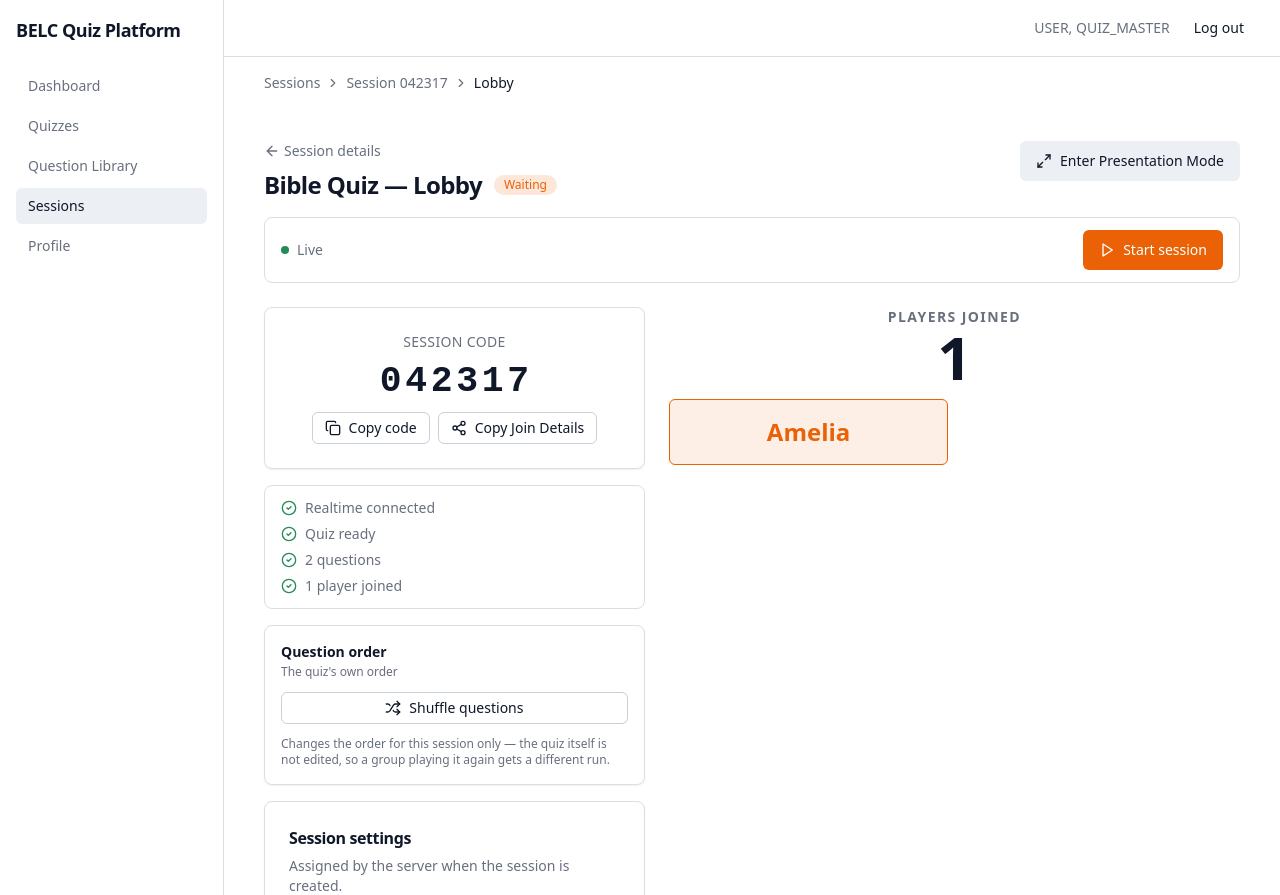
Test: SessionLobbyPage › stays in the lobby and shows the error when the server refuses the start
Expected: the text "Amelia" is shown, [767,415,850,448]
Click the button "Start session".
click(1153, 250)  # box [1083,230,1223,270]
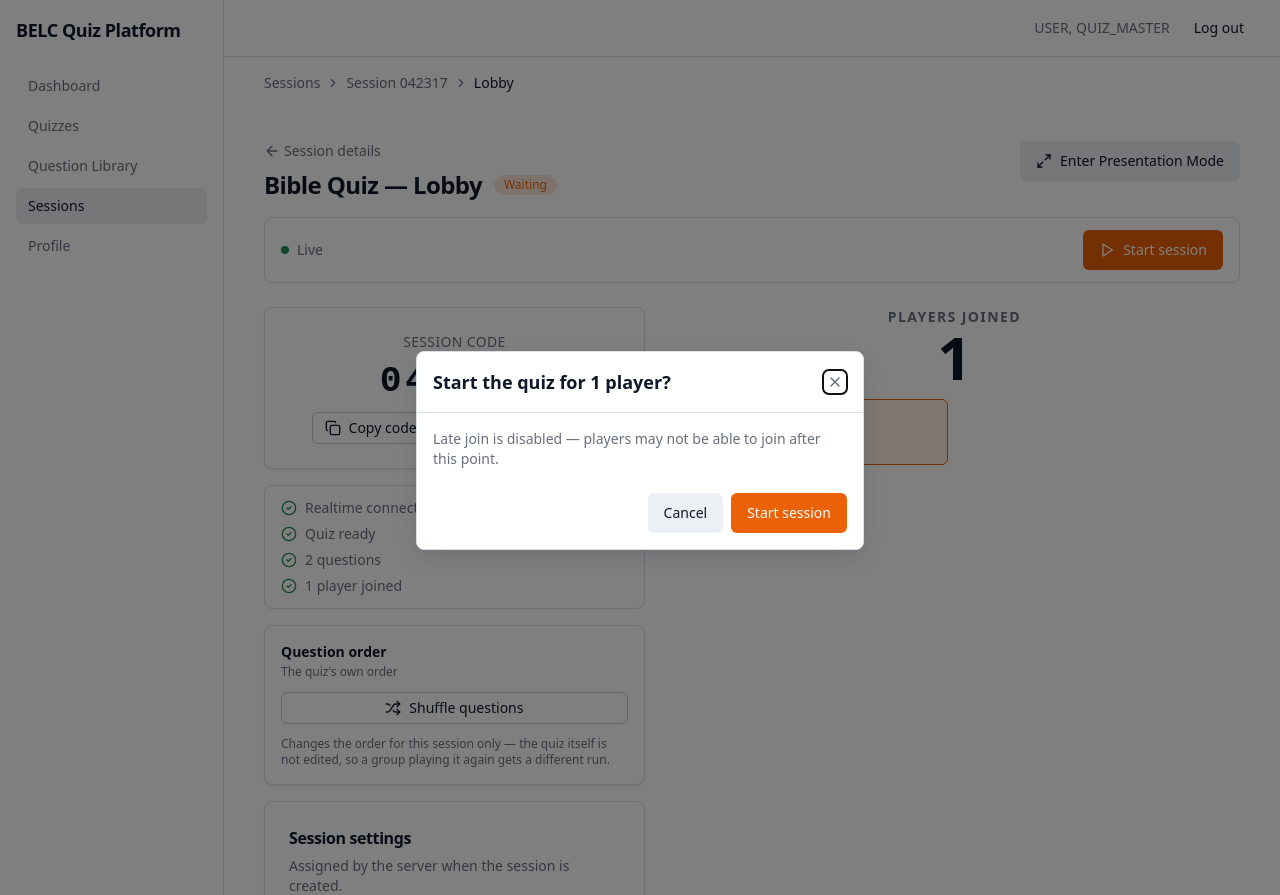
Click the button "Start session".
click(789, 512)  # box [731,492,847,532]
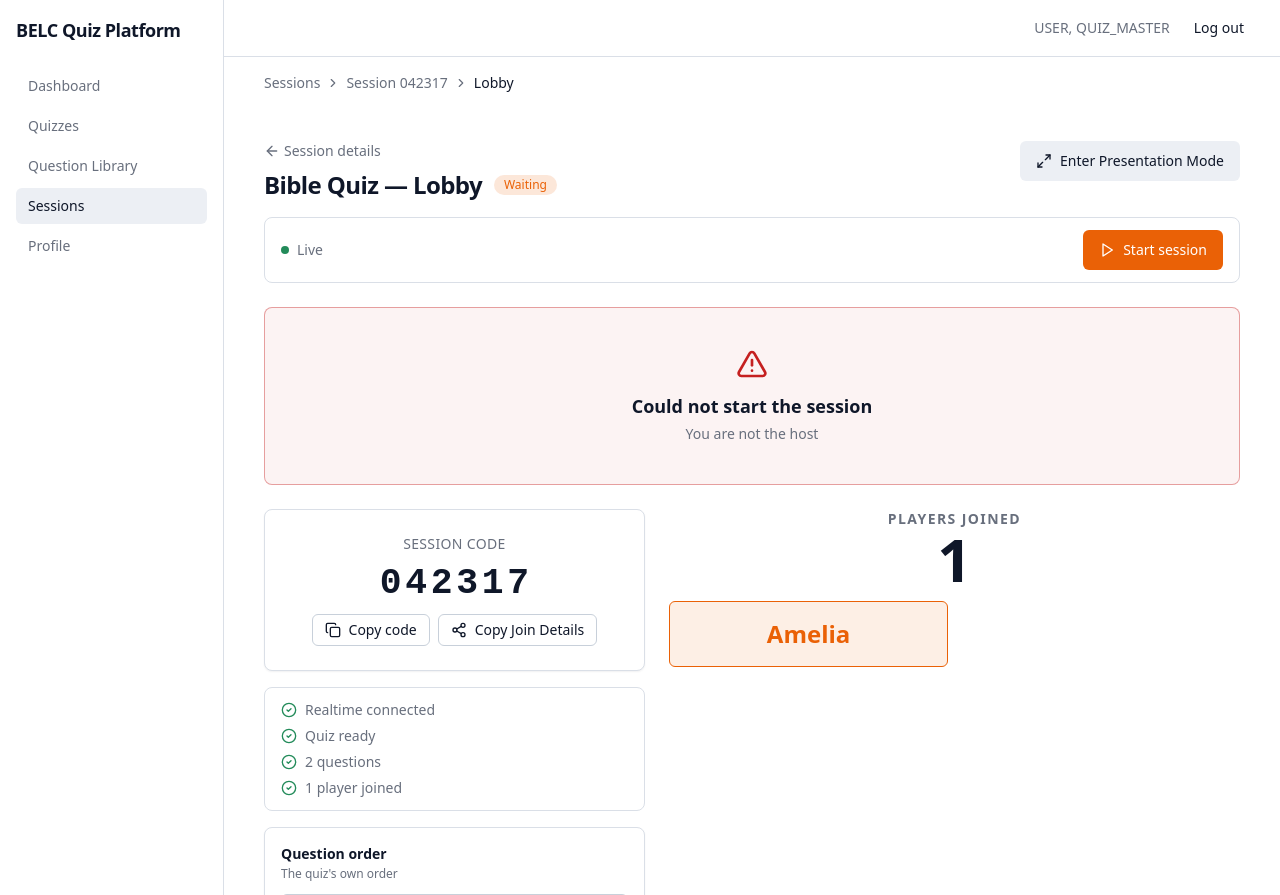
Expected: the text "You are not the host" is shown, [686,424,818,444]
